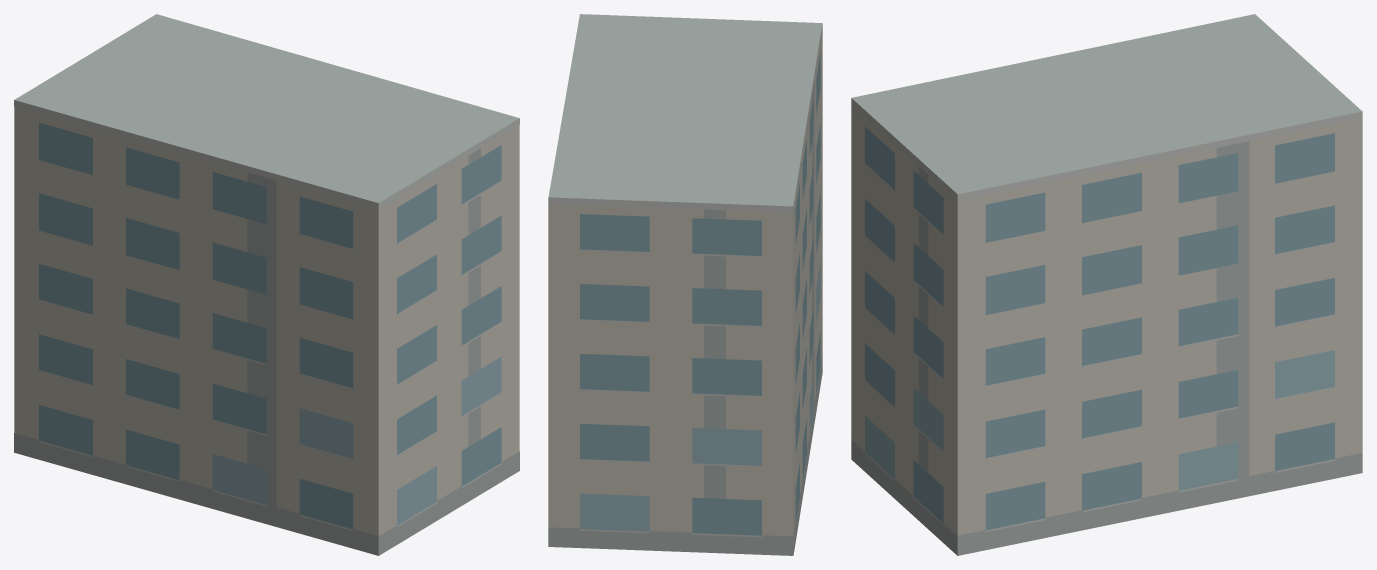
The model's file is survey-upis-32882735.glb.
The picture shows the model from 3 angles, left to right: view 1: azimuth 30°, elevation 25°; view 2: azimuth 150°, elevation 25°; view 3: azimuth 270°, elevation 25°; orthographic projection. The views are drawn at different scales.
Visible parts, largest first — view 1: survey-upis-32882735.tmp; view 2: survey-upis-32882735.tmp; view 3: survey-upis-32882735.tmp.
Part boxes in pixels (box(x1,y1,x2,y2)): survey-upis-32882735.tmp: box(14, 14, 519, 555); survey-upis-32882735.tmp: box(548, 14, 822, 555); survey-upis-32882735.tmp: box(851, 14, 1362, 555).
Bounding box in the file's own units: 14.13 × 13.2 × 16.93.
